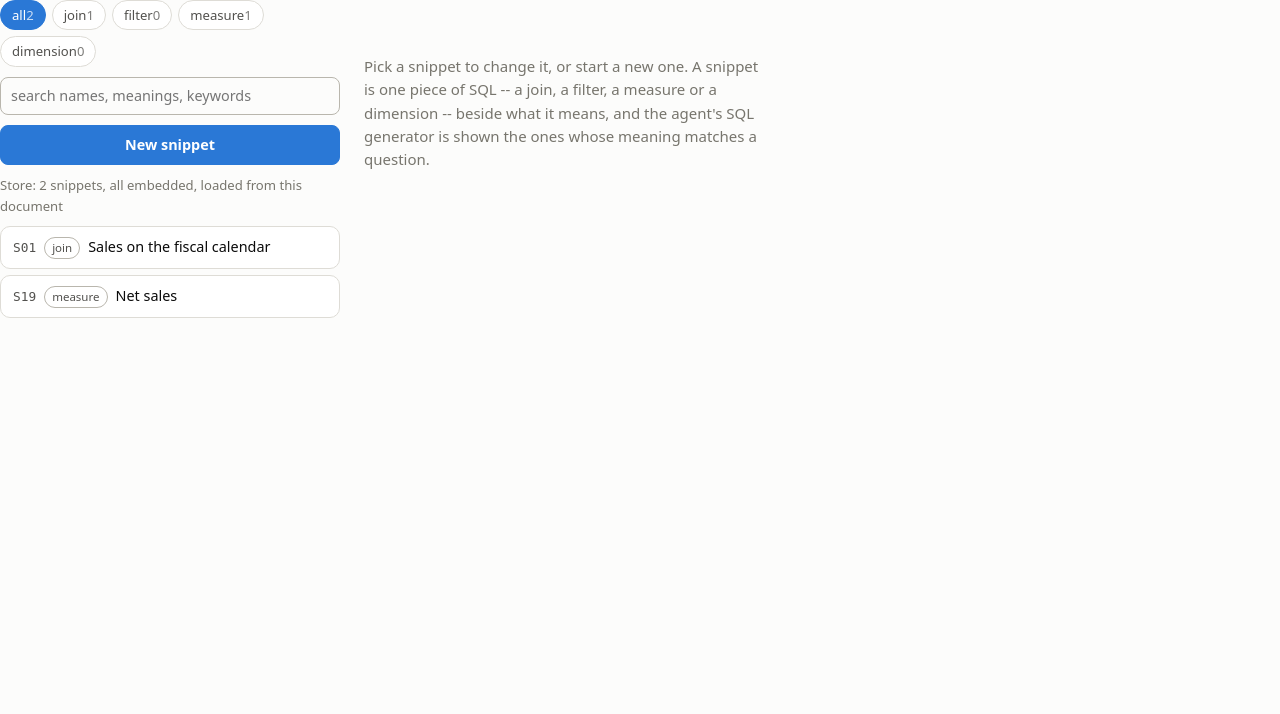
Scenario: writing one › shows the schema's error in place of the tables
The image size is (1280, 714).
Click the button "New snippet": {"x": 170, "y": 145} [0,125,340,165]
(page scrolled)
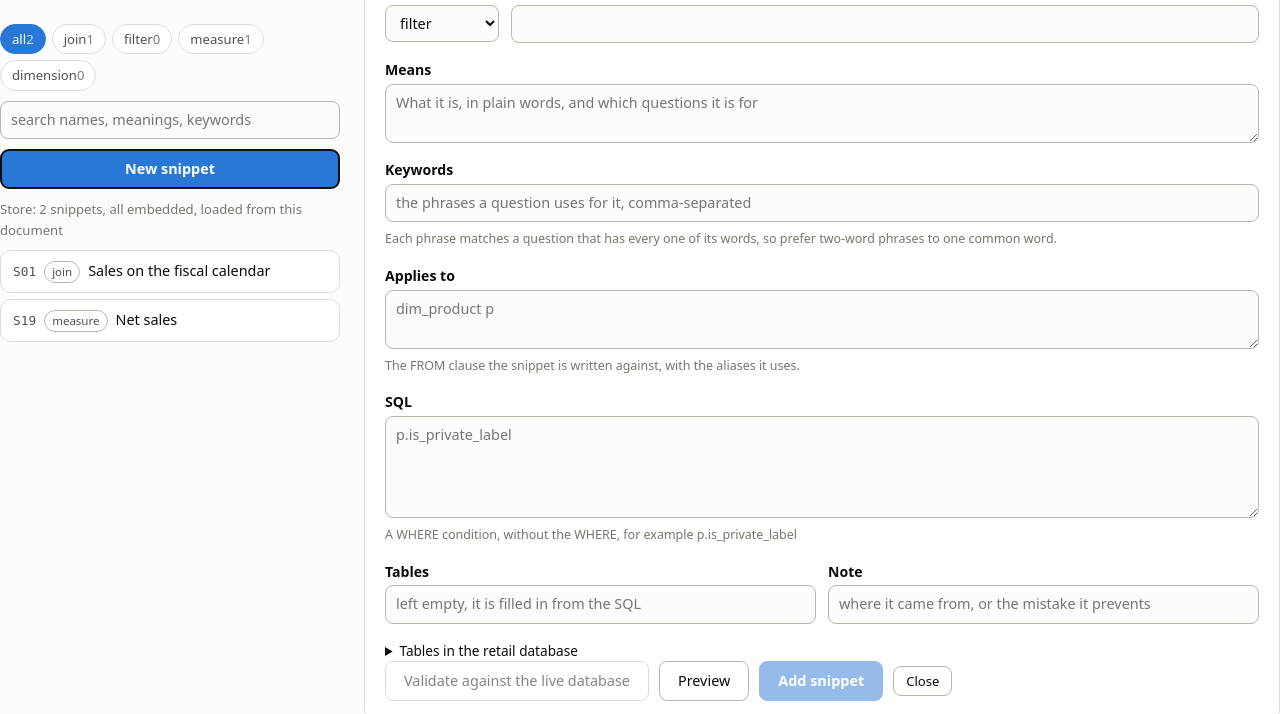
Click the heading "Tables in the retail database": {"x": 489, "y": 650} [399,641,578,660]
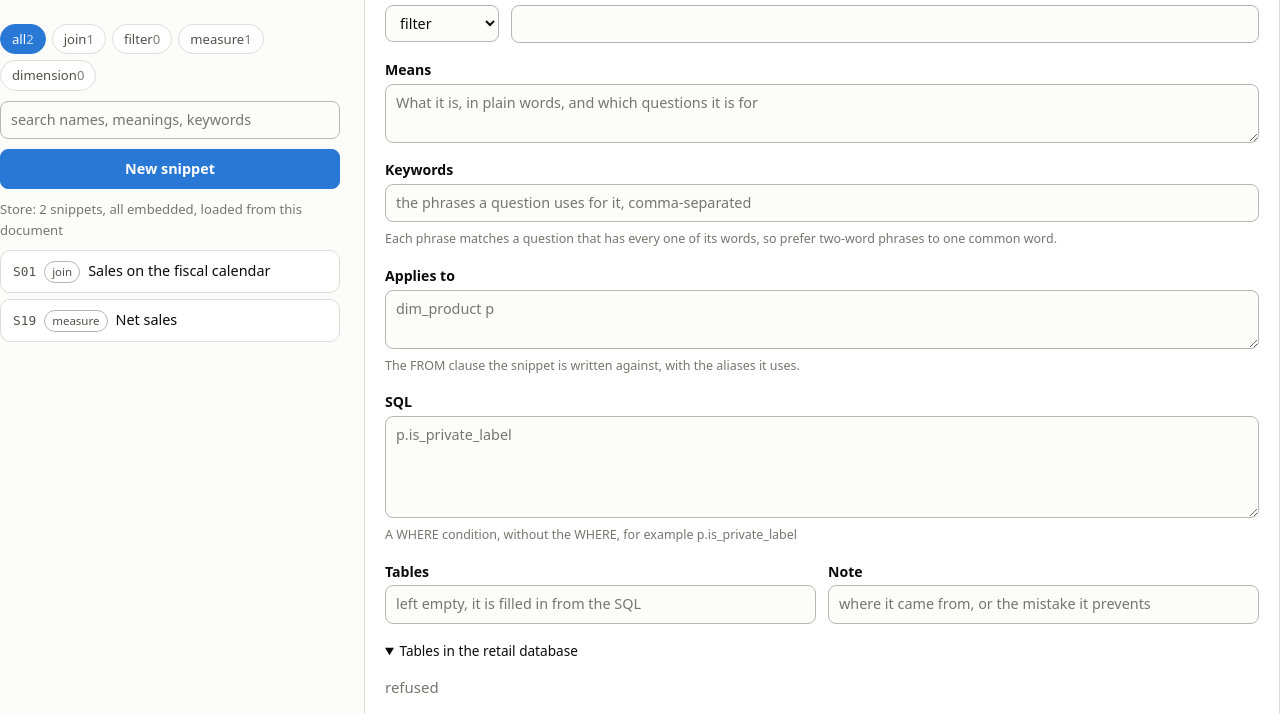
expect the text "refused" is shown: met, box [385,677,439,697]
